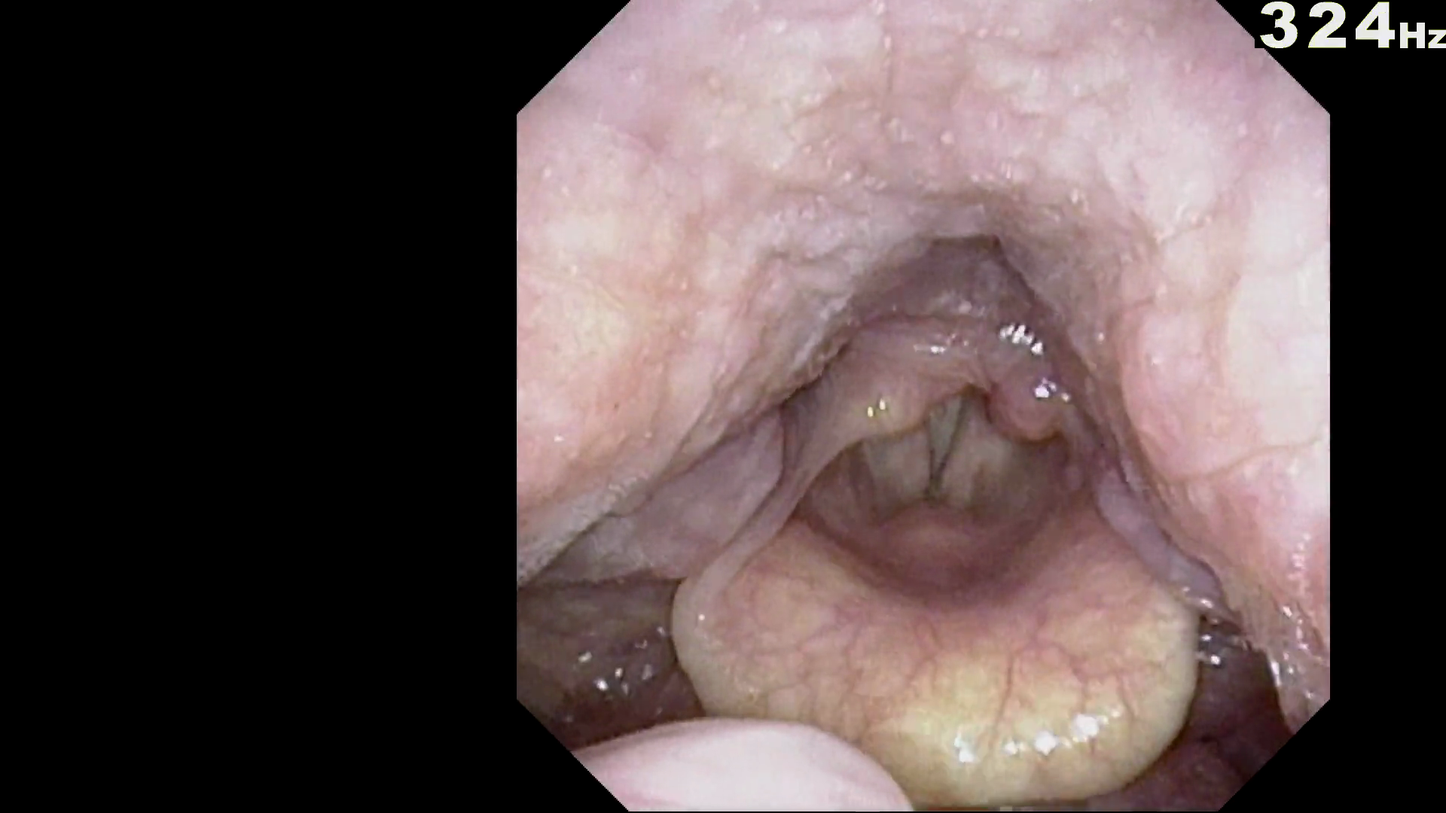epiglottis: (667, 564, 1215, 773)
trachea: (872, 365, 1031, 544)
